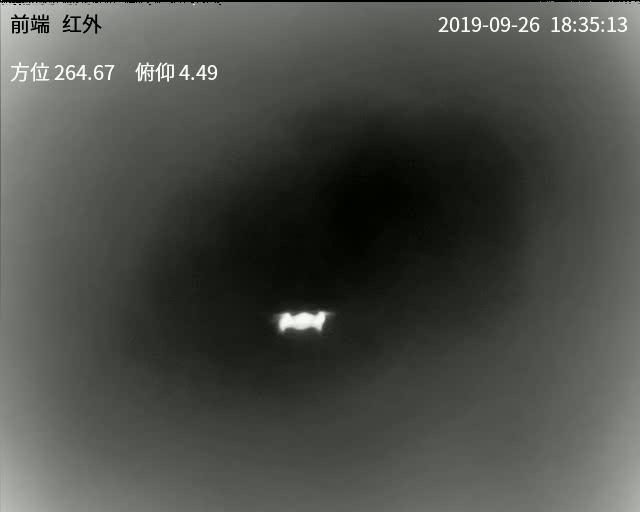DRONE: (276, 310, 326, 331)
